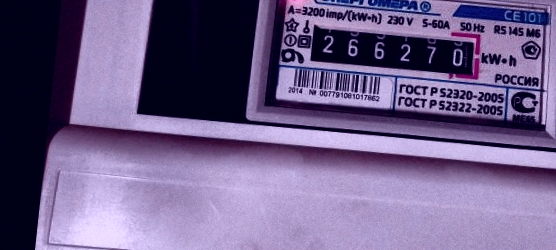0: (450, 46, 465, 67)
2: (319, 33, 336, 55), (397, 42, 413, 63)
6: (345, 36, 360, 58), (372, 40, 387, 61)
7: (423, 44, 437, 64)
screen: (300, 13, 489, 86)
